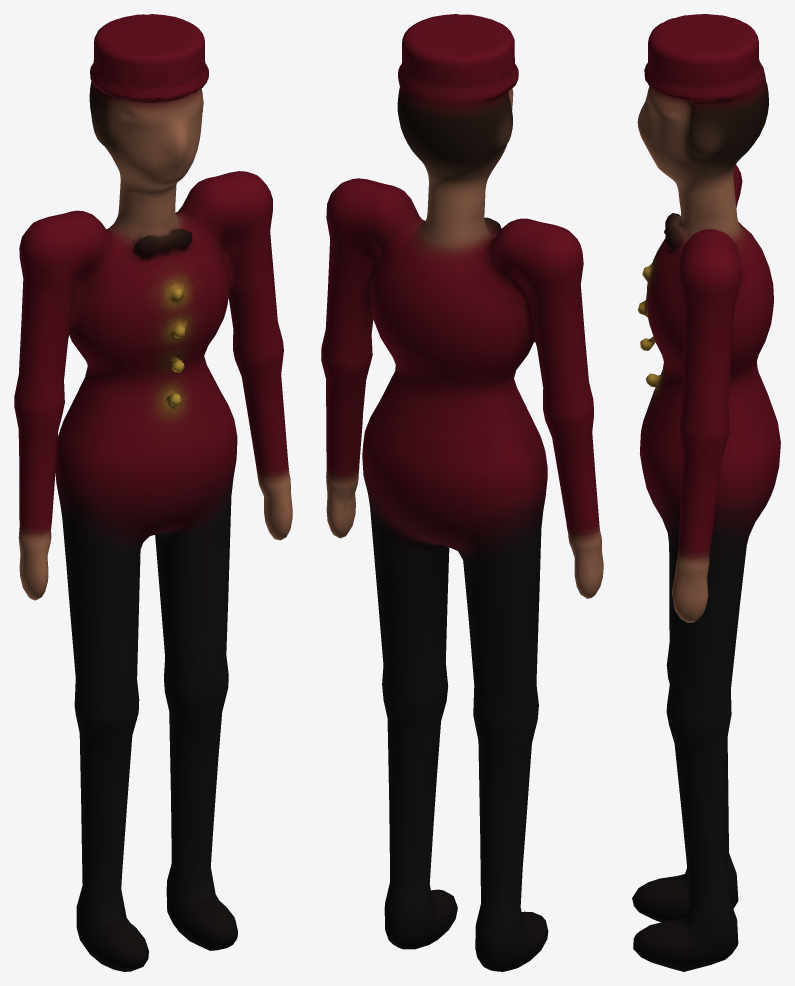
Rendered from lumiere-npc-usher.glb.
3 renders of one model, left to right at view 1: azimuth 30°, elevation 25°; view 2: azimuth 150°, elevation 25°; view 3: azimuth 270°, elevation 25°, orthographic.
Parts seen in each view (by area): view 1: lumiere-npc-usher_LOD0; view 2: lumiere-npc-usher_LOD0; view 3: lumiere-npc-usher_LOD0.
Part boxes in pixels (left/top/right/bottom): lumiere-npc-usher_LOD0: left=14, top=14, right=292, bottom=971; lumiere-npc-usher_LOD0: left=321, top=14, right=603, bottom=971; lumiere-npc-usher_LOD0: left=632, top=14, right=780, bottom=971.
Size of what is drawn, in the model's own units: 0.5549 by 1.81 by 0.2687.
